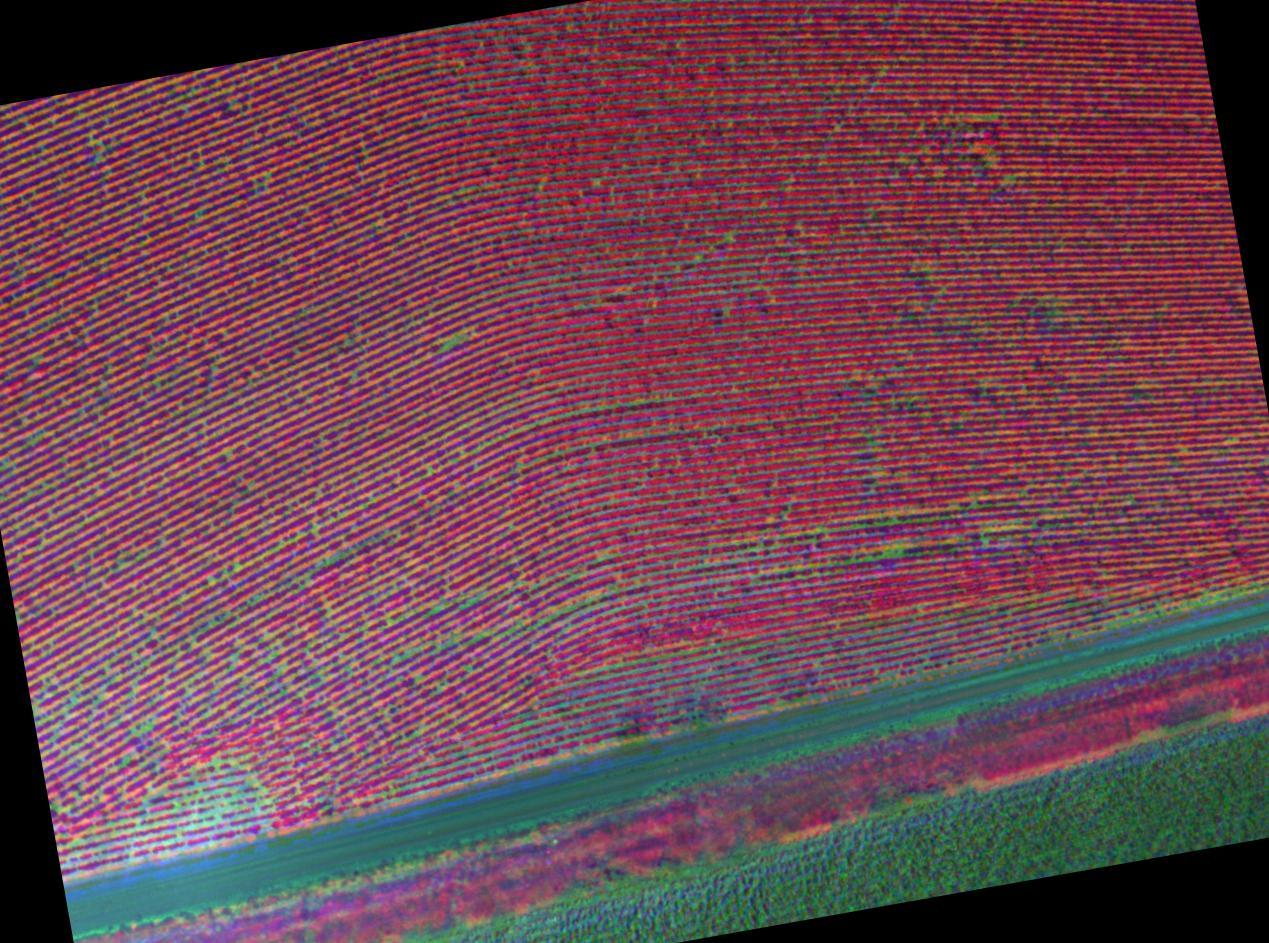dc: (133, 730, 139, 736), (448, 339, 454, 344), (209, 577, 214, 582), (226, 451, 230, 456), (886, 551, 891, 555), (75, 840, 79, 844)
